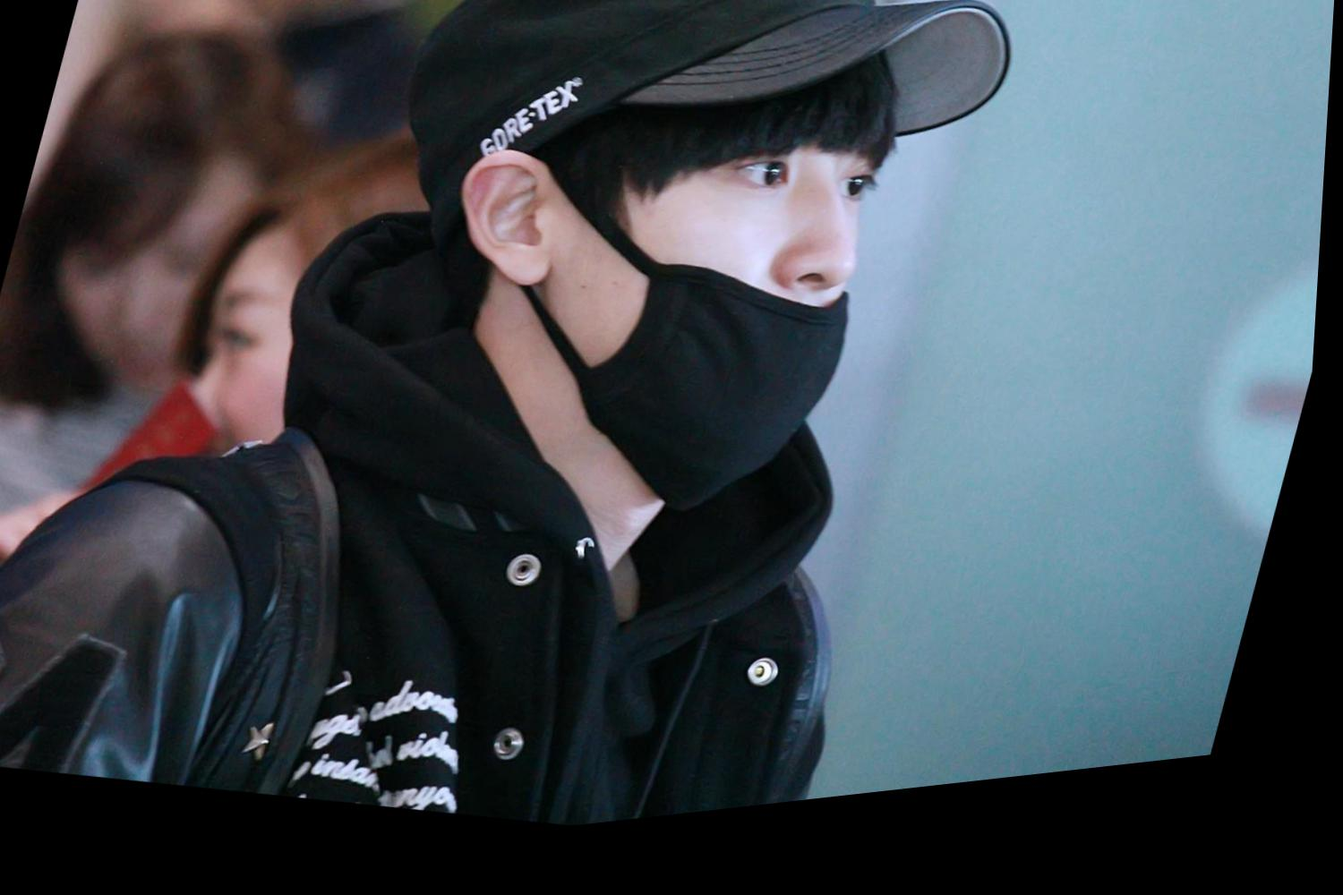NONE: (143, 274, 405, 561), (27, 201, 264, 437)
WRONG: (465, 68, 929, 550)
